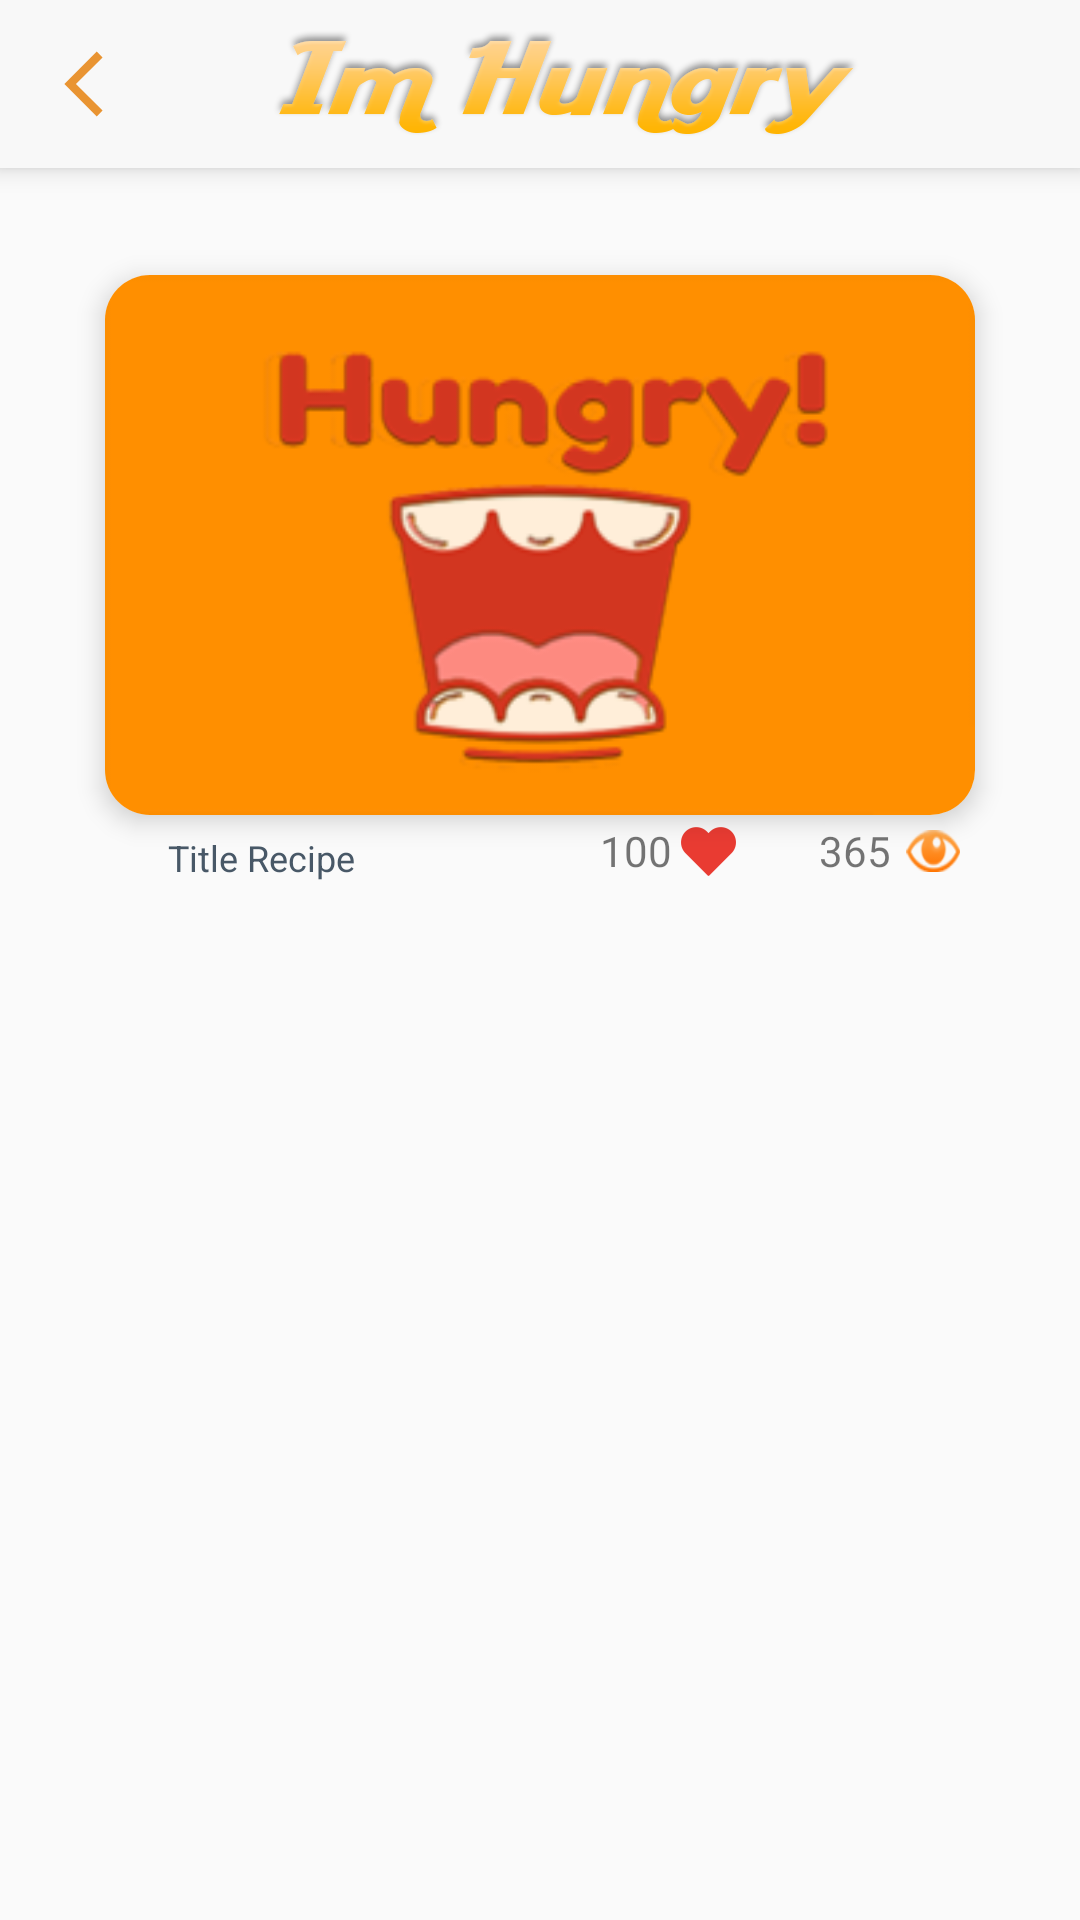

Icons on this 1080*1920 Android screen, each with the point to tap as [x,y]:
back: [83,84]
like: [708,851]
watch: [933,851]
